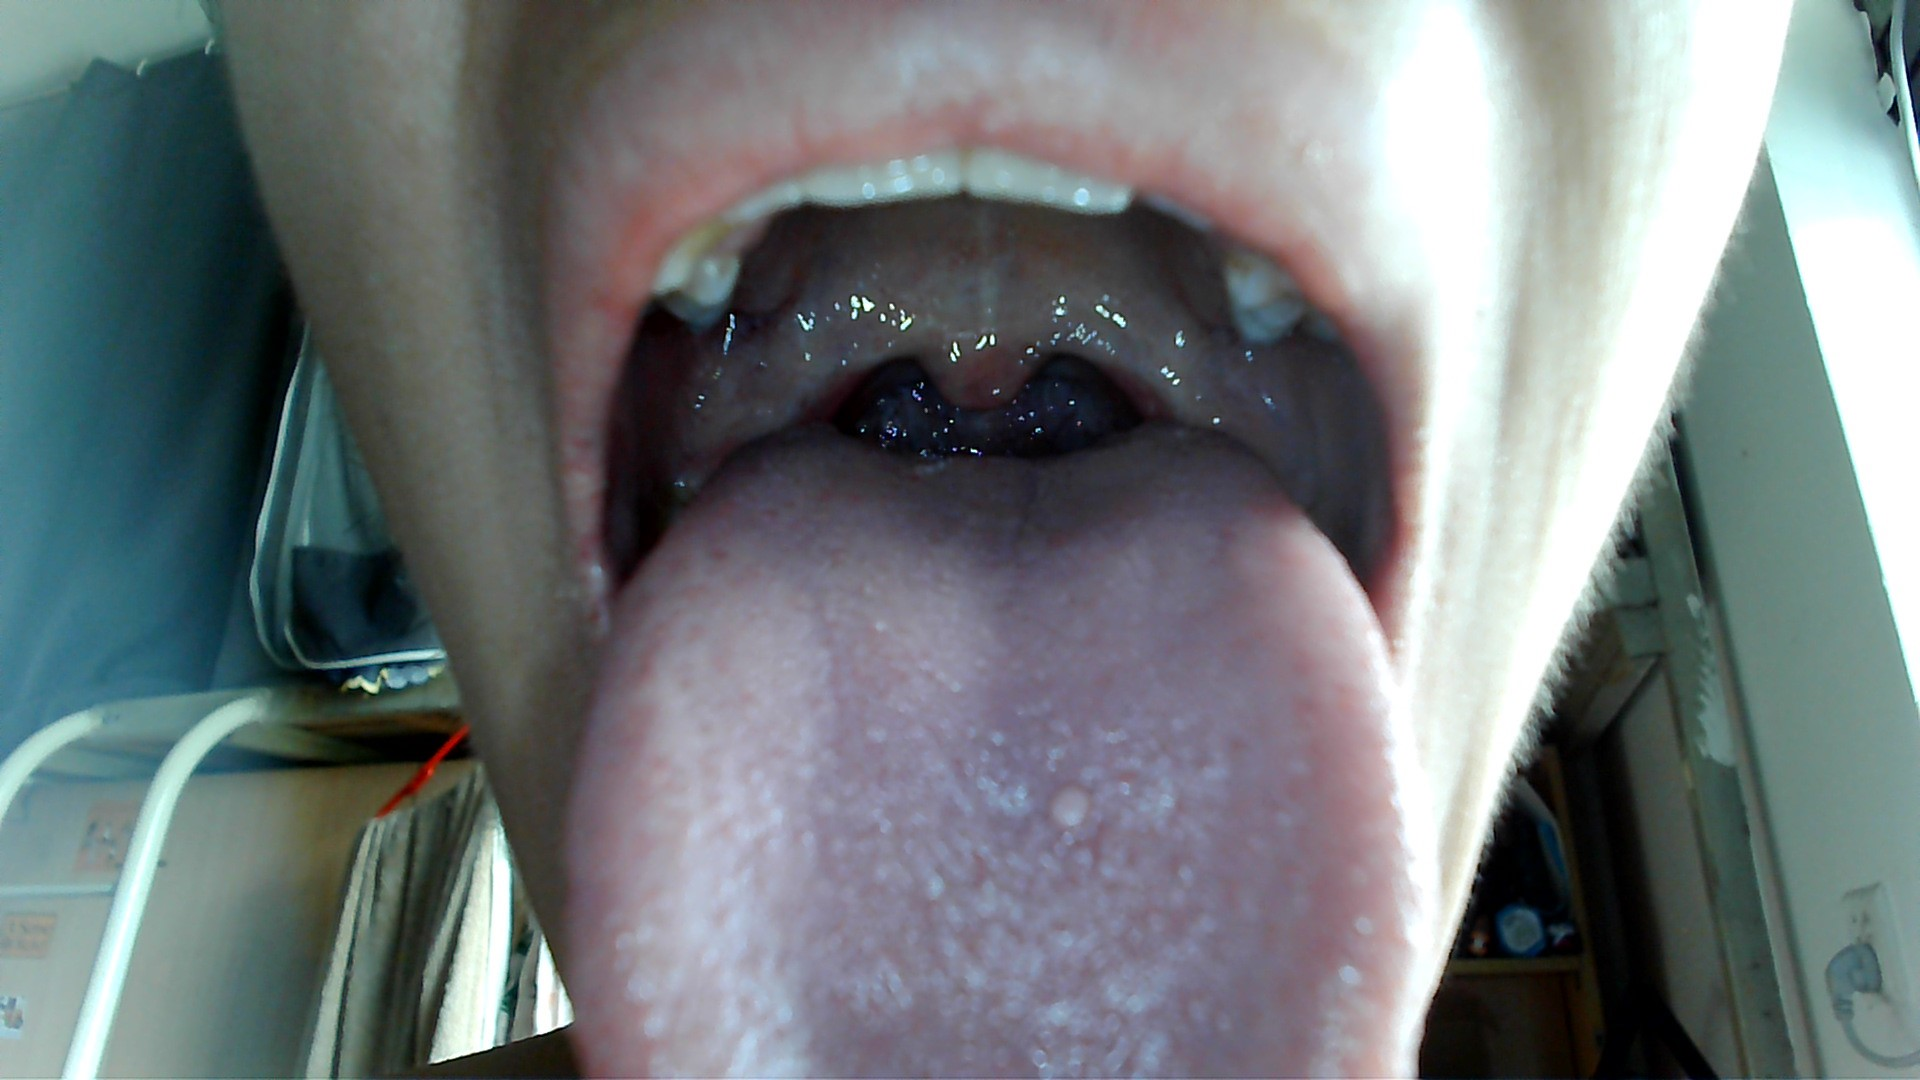throat: (778, 301, 870, 440), (1102, 305, 1197, 419)
